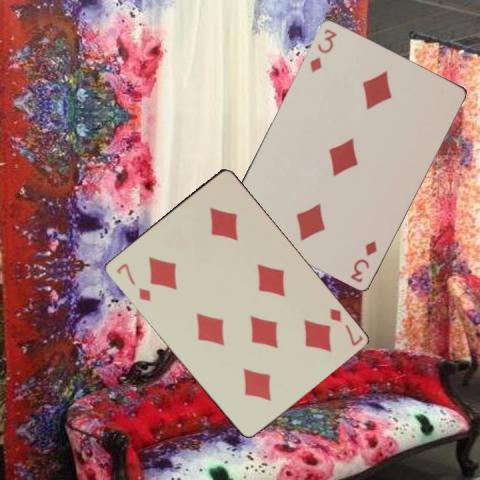3d: (307, 25, 338, 74), (347, 237, 378, 284)
7d: (113, 260, 152, 303), (326, 304, 364, 347)
